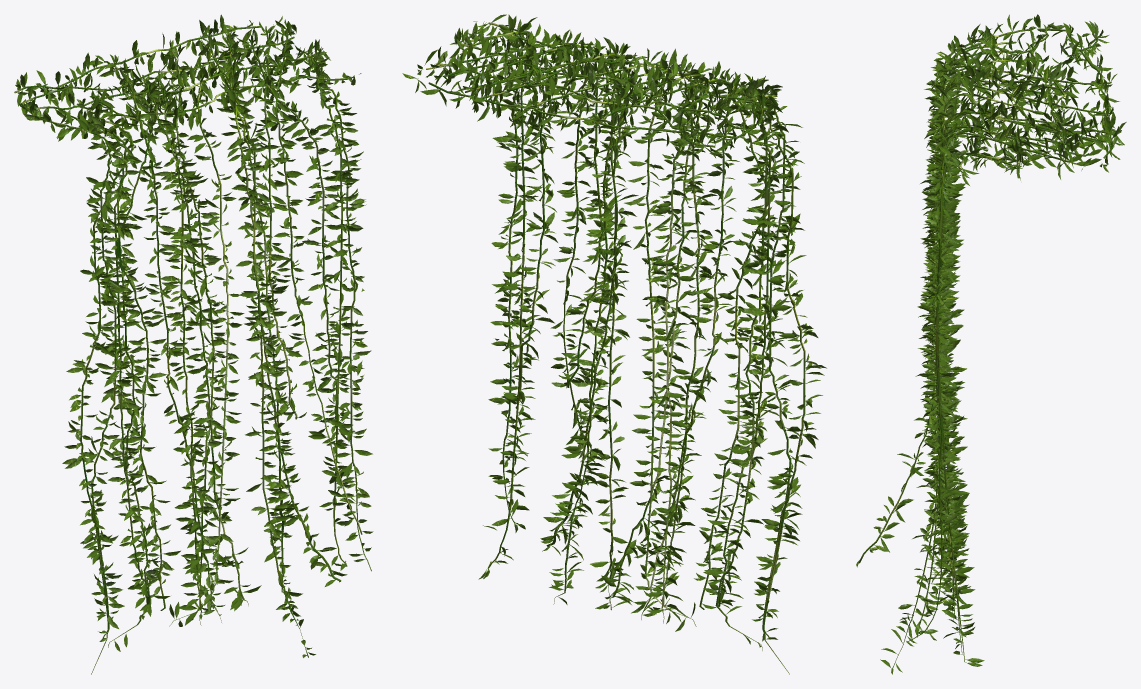
File: decorPlant.glb
3 renders of one model, left to right at view 1: azimuth 30°, elevation 25°; view 2: azimuth 150°, elevation 25°; view 3: azimuth 270°, elevation 25°, orthographic. The views are drawn at different scales.
Parts seen in each view (by area): view 1: 3DGeom~2 (C-3DGeom~2_Defintion), 3DGeom~1 (C-3DGeom~1_Defintion); view 2: 3DGeom~2 (C-3DGeom~2_Defintion), 3DGeom~1 (C-3DGeom~1_Defintion); view 3: 3DGeom~2 (C-3DGeom~2_Defintion), 3DGeom~1 (C-3DGeom~1_Defintion).
Boxes of the visible parts, x1,y1,x2,y2 form: 3DGeom~2 (C-3DGeom~2_Defintion): [15, 14, 373, 657]; 3DGeom~1 (C-3DGeom~1_Defintion): [14, 26, 371, 674]; 3DGeom~2 (C-3DGeom~2_Defintion): [402, 14, 826, 647]; 3DGeom~1 (C-3DGeom~1_Defintion): [426, 22, 805, 674]; 3DGeom~2 (C-3DGeom~2_Defintion): [856, 14, 1126, 674]; 3DGeom~1 (C-3DGeom~1_Defintion): [859, 28, 1114, 667].
Size of the model in its own units: 1.27 by 2.21 by 0.9669.
2 materials, 2 textured.
